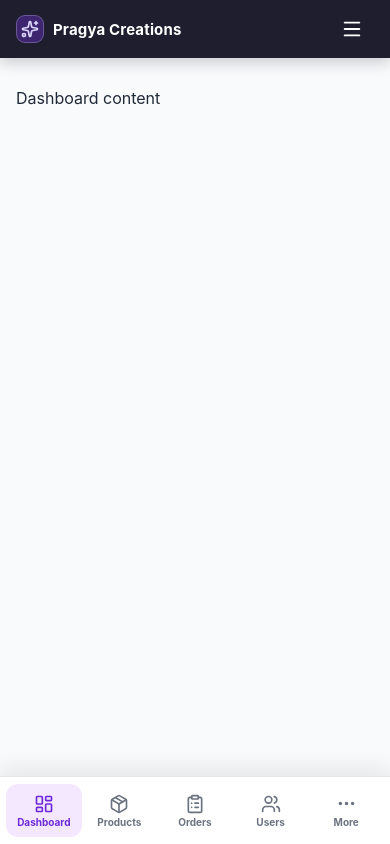
Test: uses the mobile bottom navigation to change routes
What coordinates should you click on to do the following:
click the link "Products"
I would click on:
 (119, 810)
Its box is x1=97 y1=794 x2=141 y2=828.
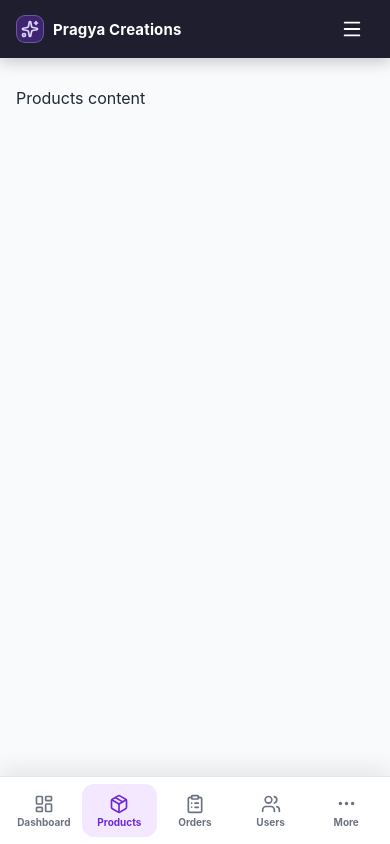
Check: the text "Products content" is shown, box x1=16 y1=88 x2=145 y2=108
